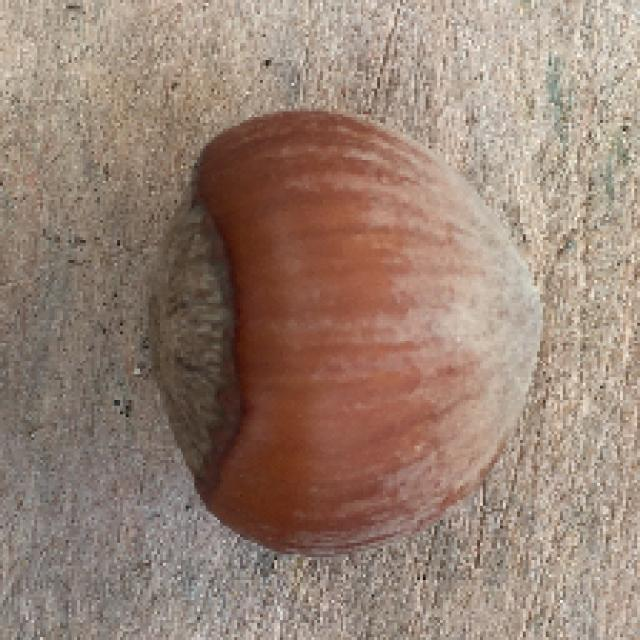qualityHazelnut: (145, 115, 547, 552)
